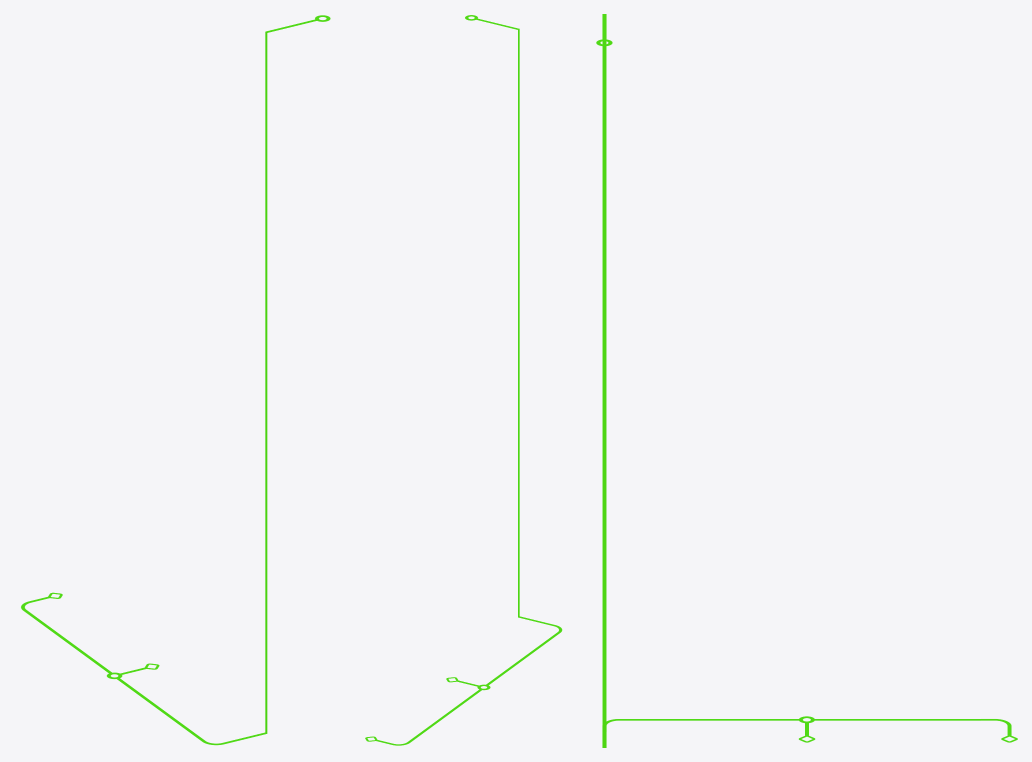
The model's file is 6_1_cl_active.glb.
The picture shows the model from 3 angles, left to right: view 1: azimuth 30°, elevation 25°; view 2: azimuth 150°, elevation 25°; view 3: azimuth 270°, elevation 25°; orthographic projection. The views are drawn at different scales.
Parts seen in each view (by area): view 1: 6_1_cl_active; view 2: 6_1_cl_active; view 3: 6_1_cl_active.
Boxes of the visible parts, x1,y1,x2,y2 form: 6_1_cl_active: [21, 15, 330, 745]; 6_1_cl_active: [365, 15, 562, 745]; 6_1_cl_active: [596, 14, 1017, 747].
Bounding box in the file's own units: 2.99 × 16 × 8.33.
Materials: 1 (1 with a texture image).
